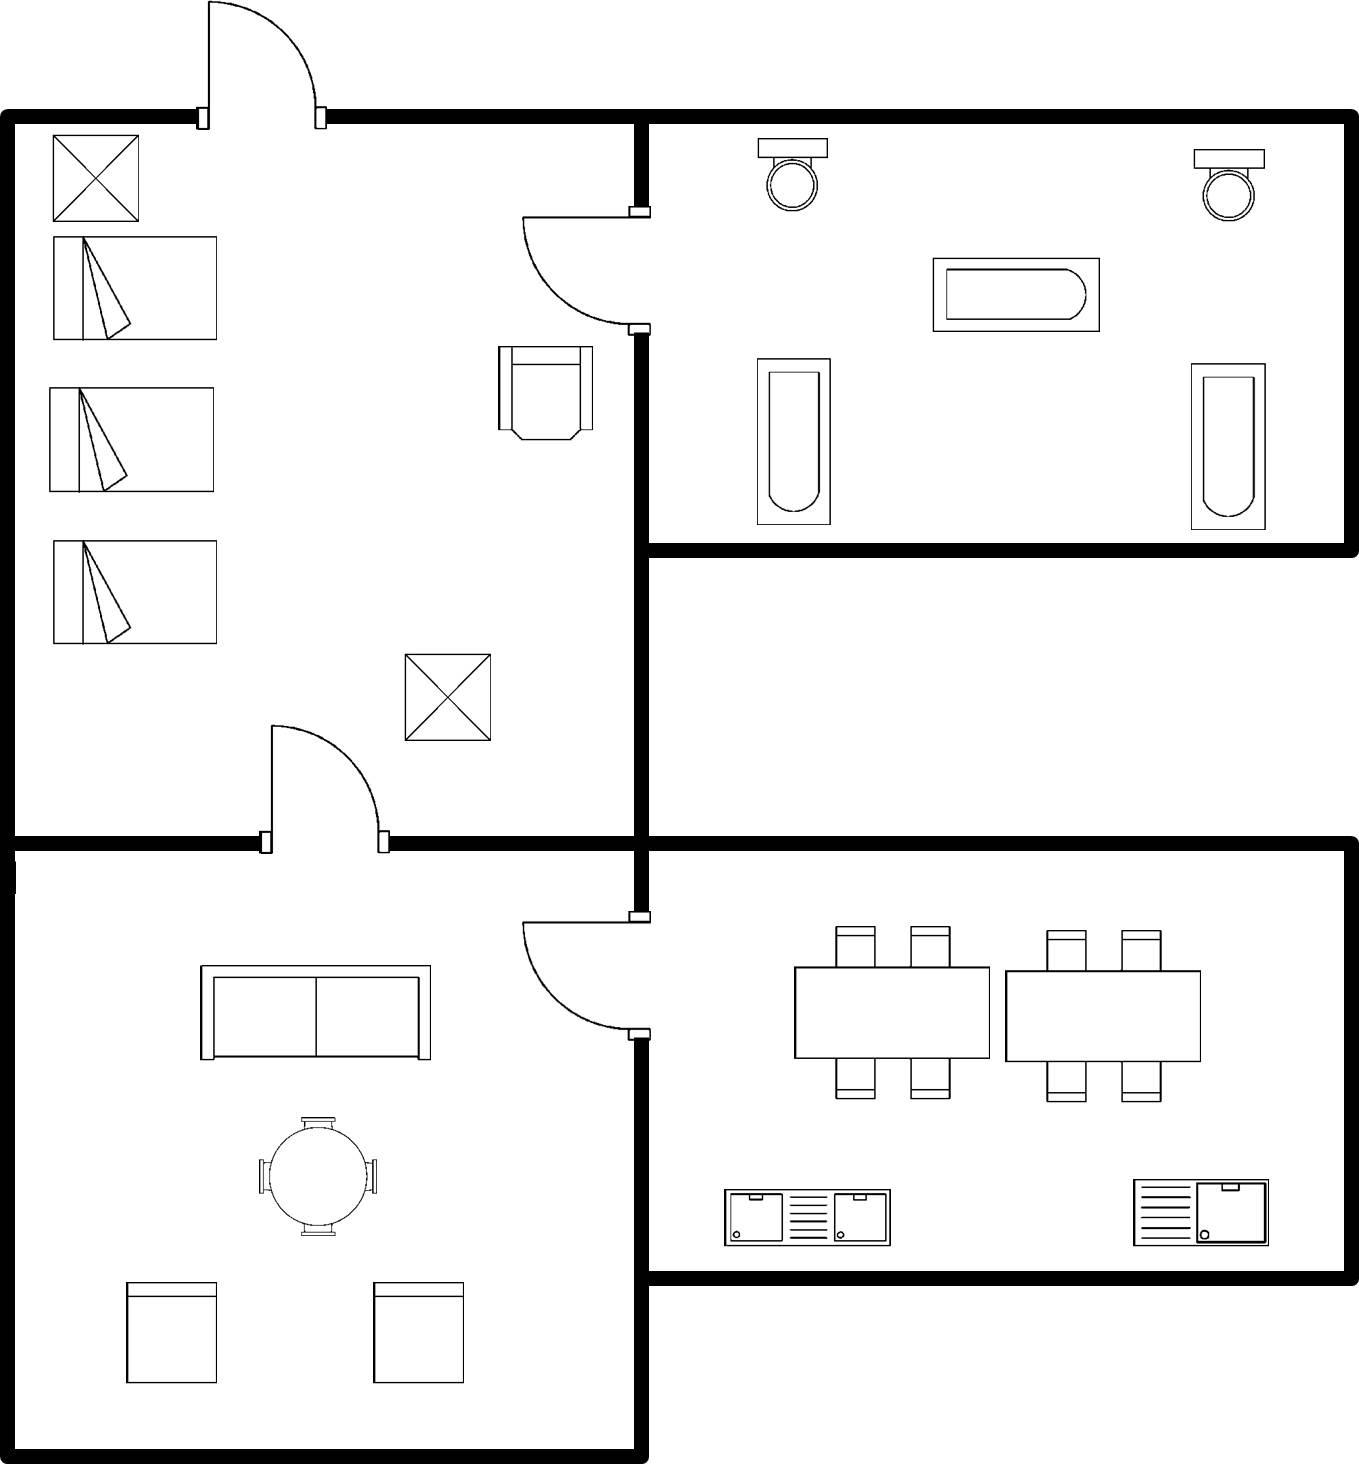sink: (713, 1174, 900, 1253)
